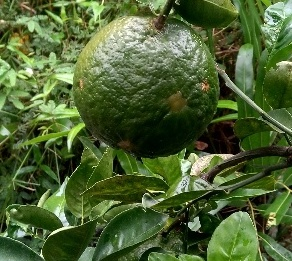Cam: (75, 14, 222, 157)
